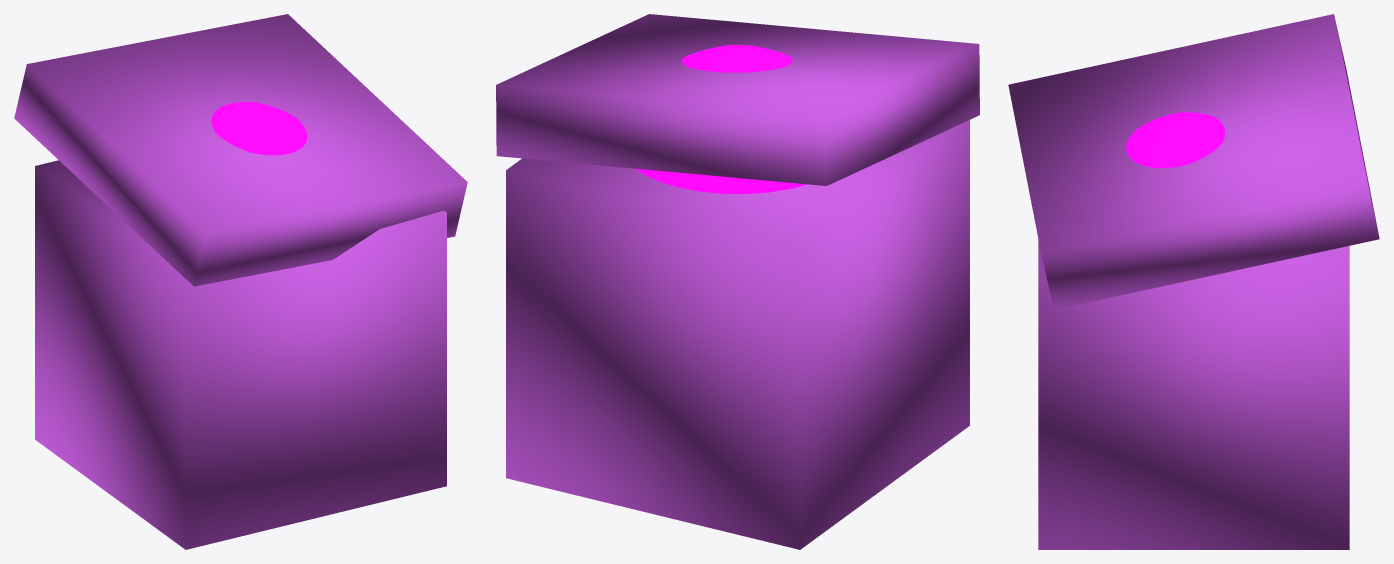
File: malware_curiosity.glb
The picture shows the model from 3 angles, left to right: view 1: azimuth 30°, elevation 25°; view 2: azimuth 150°, elevation 25°; view 3: azimuth 270°, elevation 25°; orthographic projection. The views are drawn at different scales.
Visible parts, largest first — view 1: Cube; view 2: Cube; view 3: Cube.
Part boxes in pixels (x1,y1,x2,y2): Cube: (14, 14, 467, 549); Cube: (496, 14, 979, 549); Cube: (1008, 14, 1379, 549).
Size of the model in its own units: 1.64 by 1.97 by 1.67.
